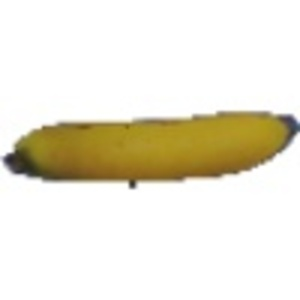banana: (1, 103, 297, 183)
